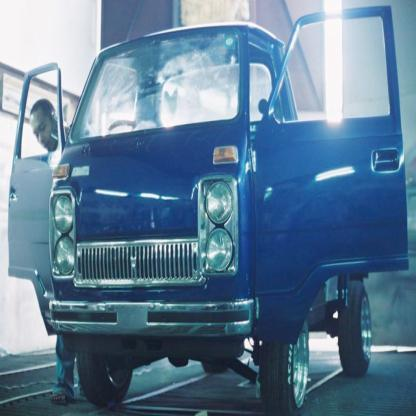Truck: (24, 19, 392, 405)
